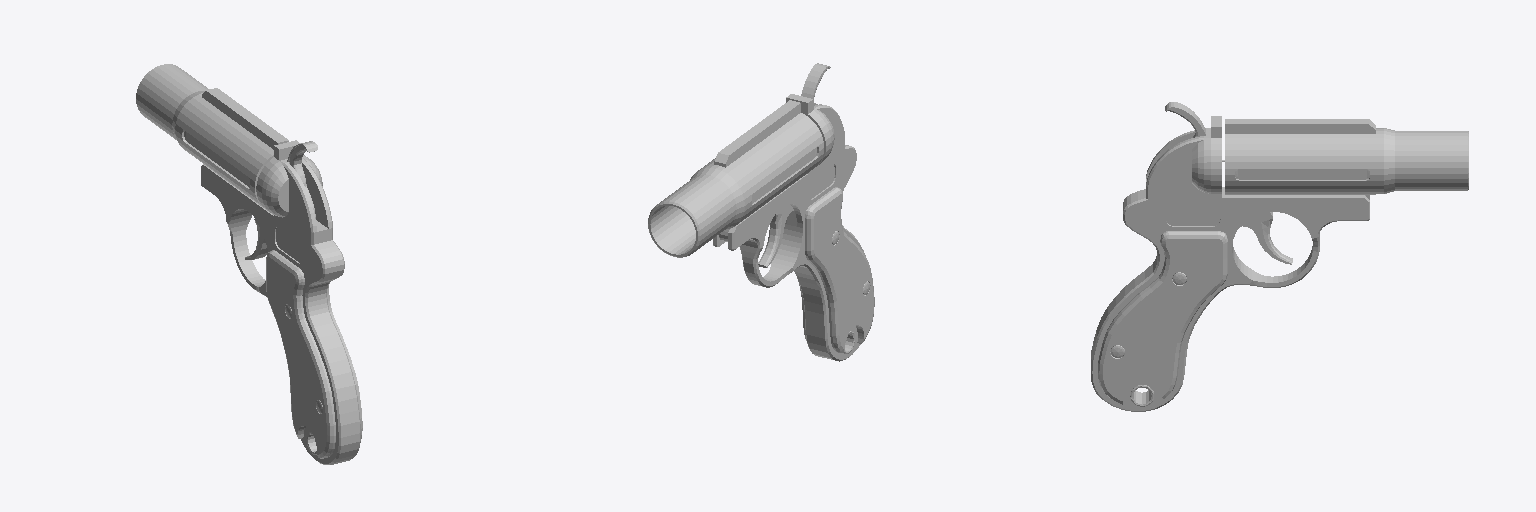
The model's file is FlareGunShort.obj.
3 views of the same model, side by side, from view 1: azimuth 30°, elevation 25°; view 2: azimuth 150°, elevation 25°; view 3: azimuth 270°, elevation 25° (orthographic).
Visible parts, largest first — view 1: FlareGunShort_Frame_Circle.008, FlareGunShort_Barrel_Circle.011, FlareGunShort_Hammer_Circle.022; view 2: FlareGunShort_Frame_Circle.008, FlareGunShort_Barrel_Circle.011, FlareGunShort_Trigger_Circle.021; view 3: FlareGunShort_Frame_Circle.008, FlareGunShort_Barrel_Circle.011, FlareGunShort_Trigger_Circle.021, FlareGunShort_Hammer_Circle.022.
Boxes of the visible parts, box(x1,y1,x2,y2) form: FlareGunShort_Frame_Circle.008: box(201, 140, 362, 464); FlareGunShort_Barrel_Circle.011: box(136, 64, 288, 207); FlareGunShort_Hammer_Circle.022: box(287, 141, 317, 218); FlareGunShort_Frame_Circle.008: box(713, 94, 874, 361); FlareGunShort_Barrel_Circle.011: box(648, 100, 823, 257); FlareGunShort_Trigger_Circle.021: box(758, 204, 793, 267); FlareGunShort_Frame_Circle.008: box(1091, 116, 1369, 411); FlareGunShort_Barrel_Circle.011: box(1225, 119, 1468, 195); FlareGunShort_Trigger_Circle.021: box(1240, 212, 1292, 264); FlareGunShort_Hammer_Circle.022: box(1165, 102, 1224, 161).
Size of the model in its own units: 0.0472 by 0.2361 by 0.2678.